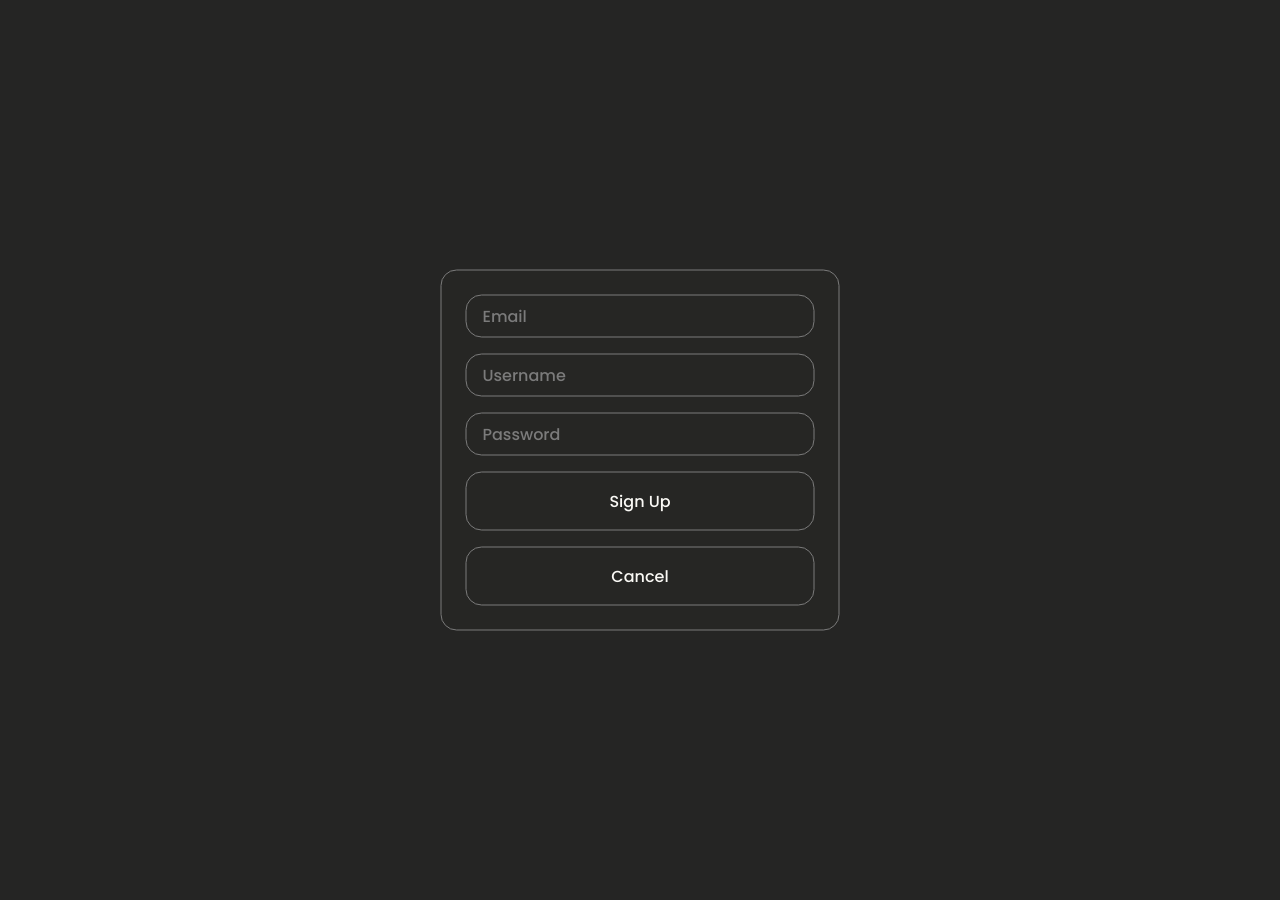
Test: Signup component › Failed signup › should handle server errors gracefully
The width and height of the screenshot is (1280, 900).
Type "test@example.com" into the field with placeholder "Email" at coordinates (640, 316), box [466,294,814,338]
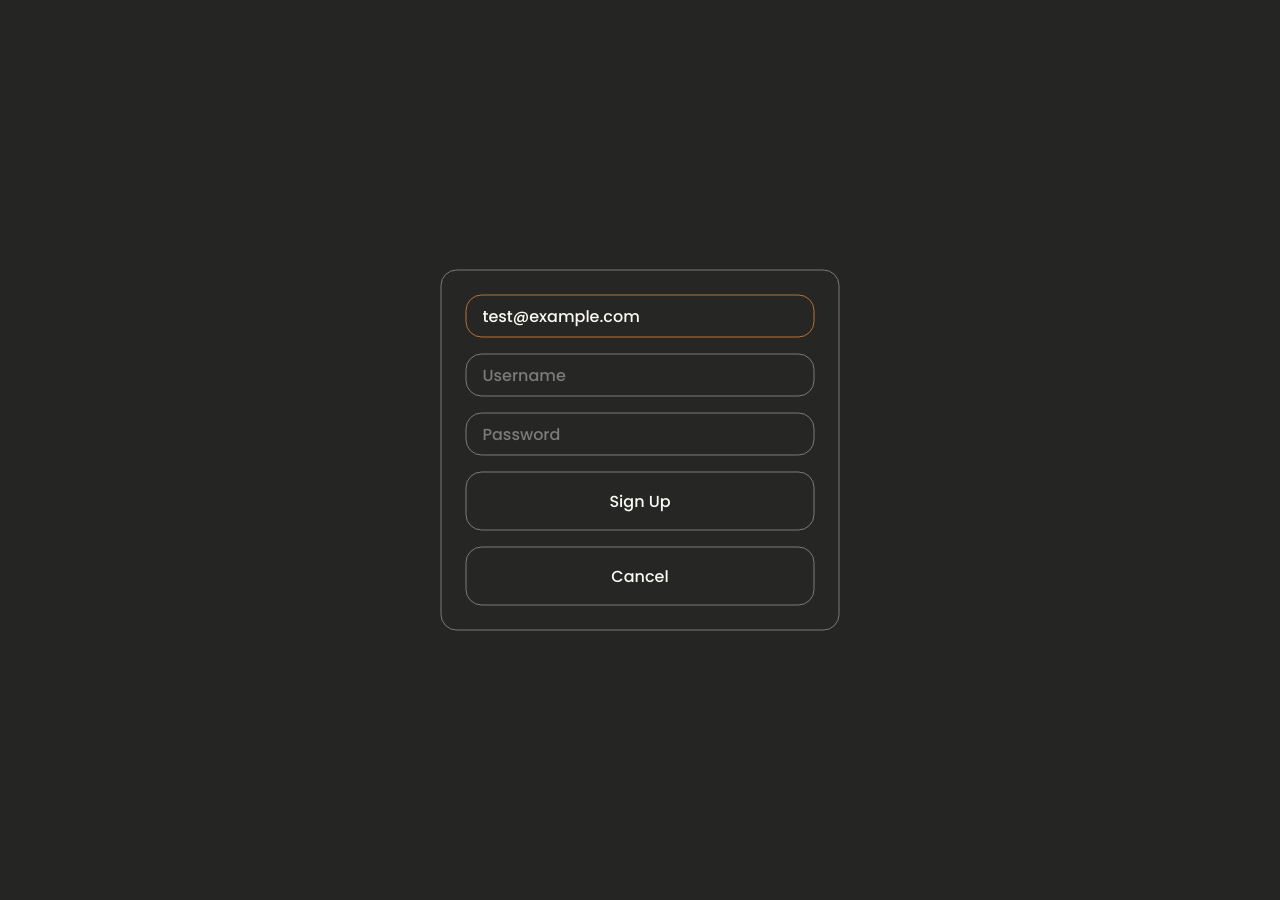
Type "username" into the field with placeholder "Username" at coordinates (640, 375), box [466,354,814,396]
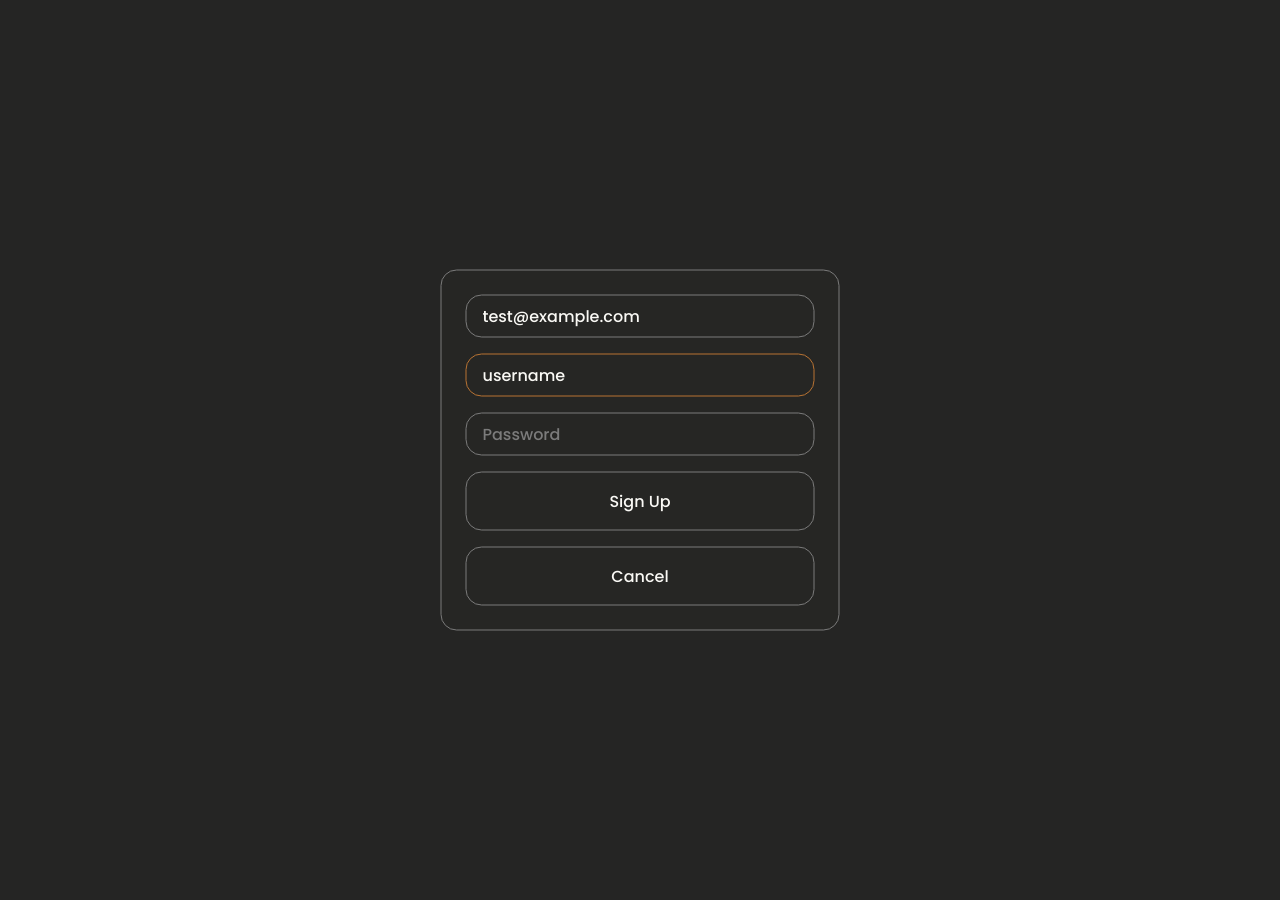
Type "password123" into the password field with placeholder "Password" at coordinates (640, 434), box [466,412,814,456]
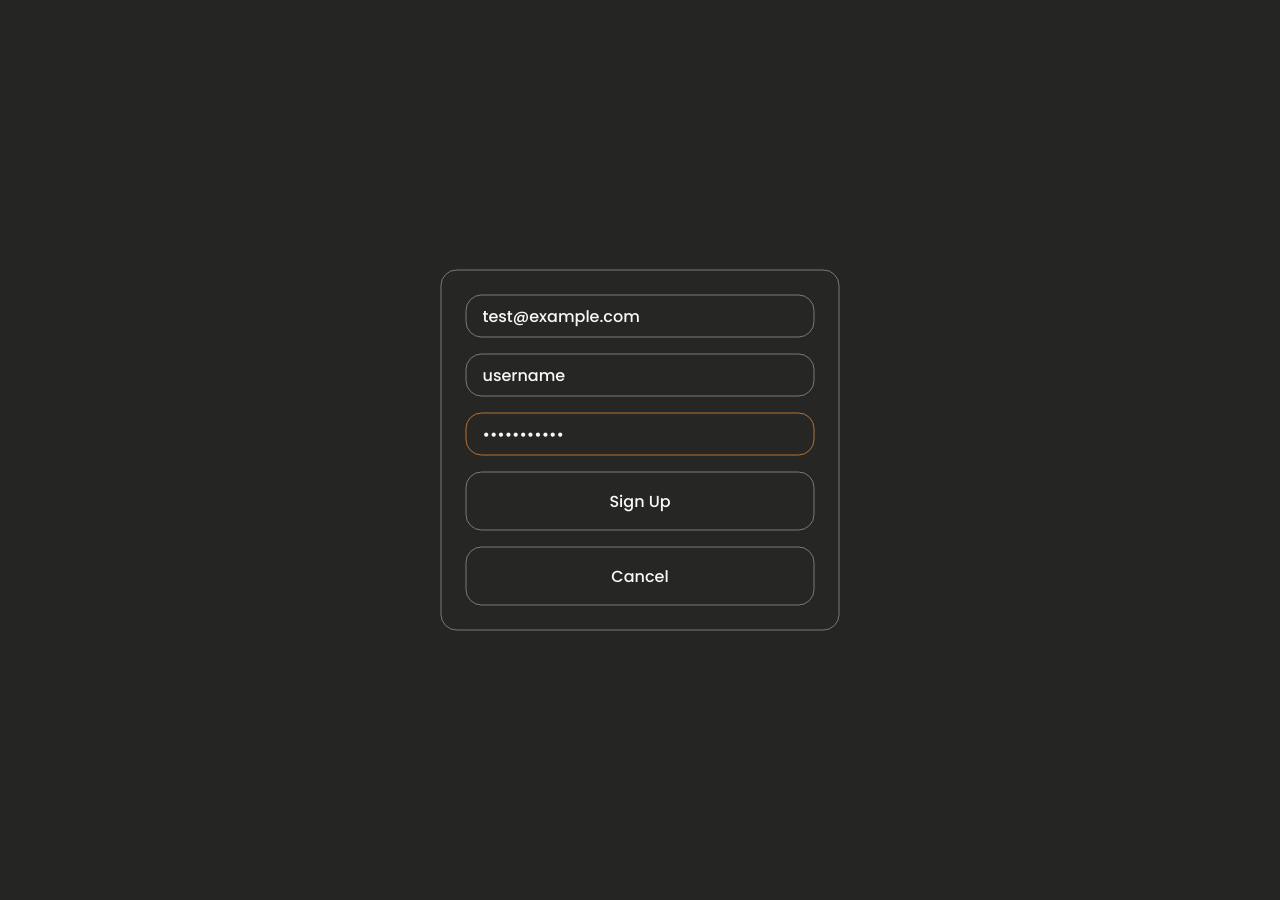
Click the button "Sign Up" at coordinates (640, 501), box [466,472,814,530]
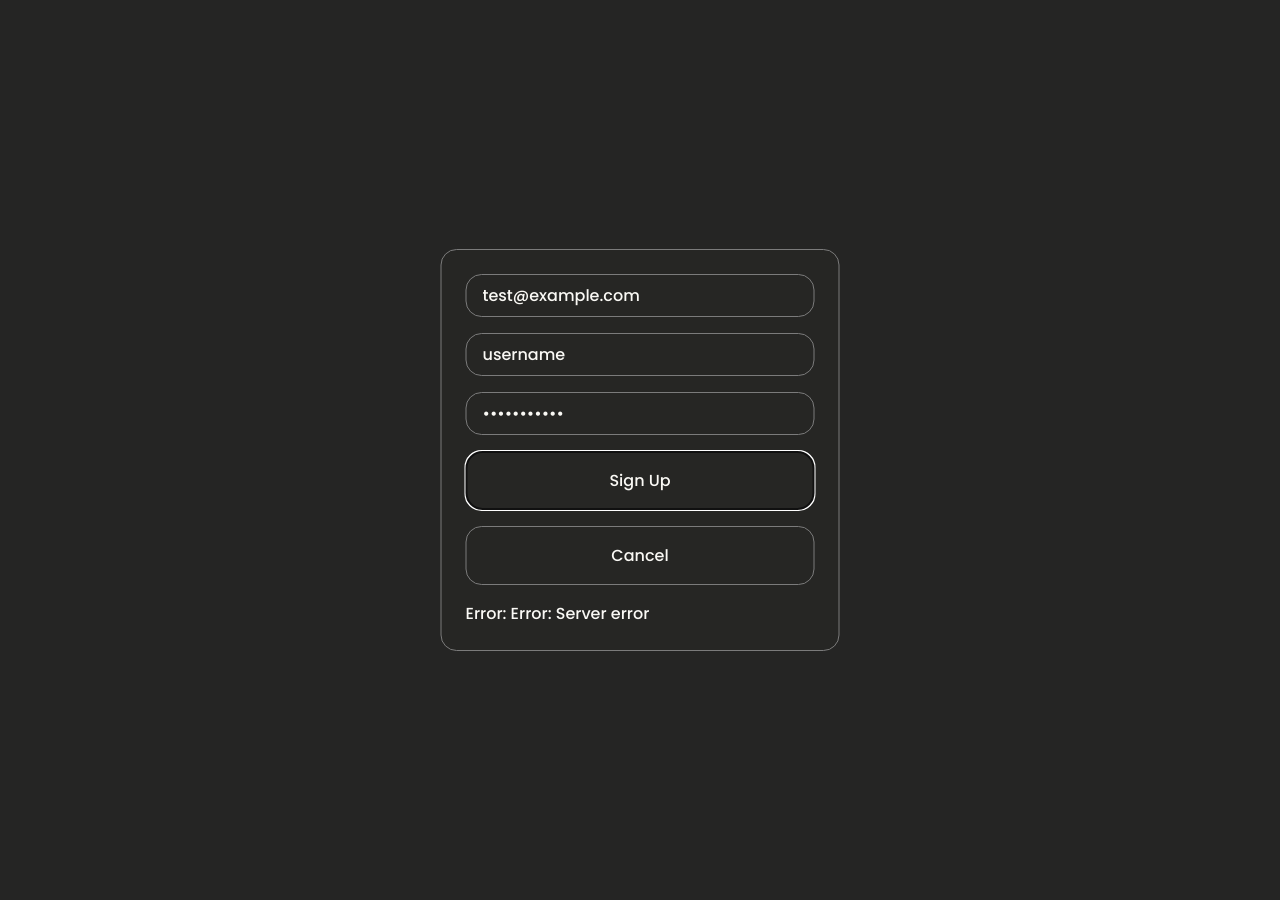
expect the text "Error: Error: Server error" is shown: met, box [466,602,649,625]
